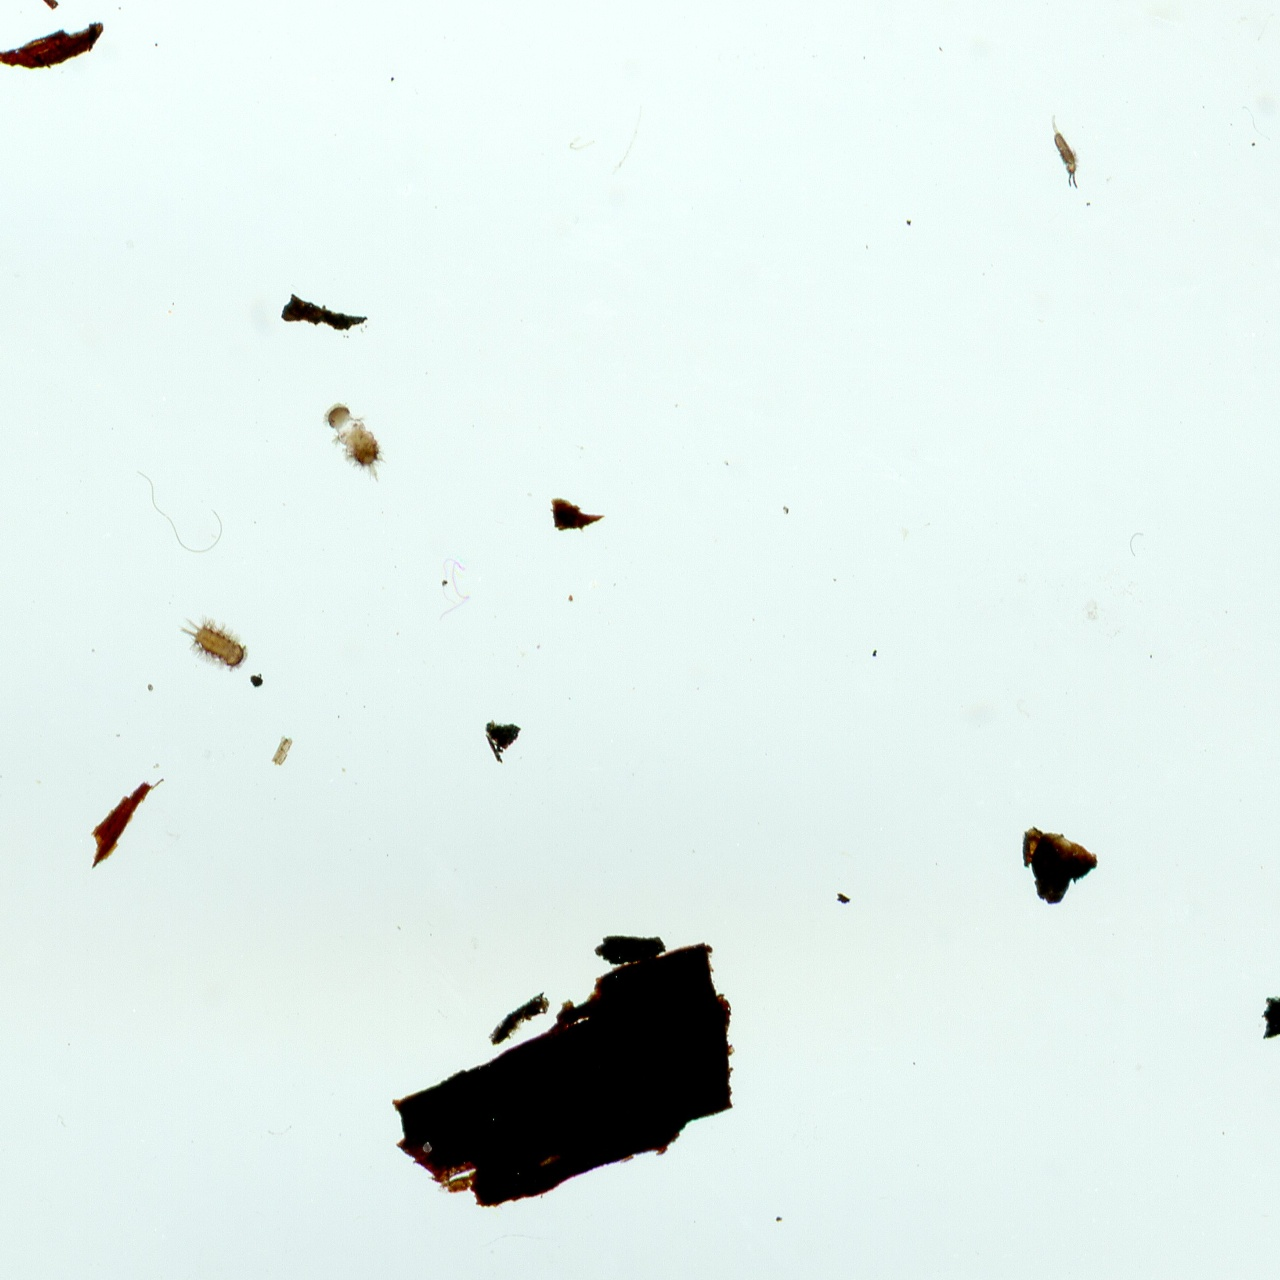arthropod: (308, 389, 409, 495), (166, 599, 263, 685), (1042, 103, 1088, 196)
